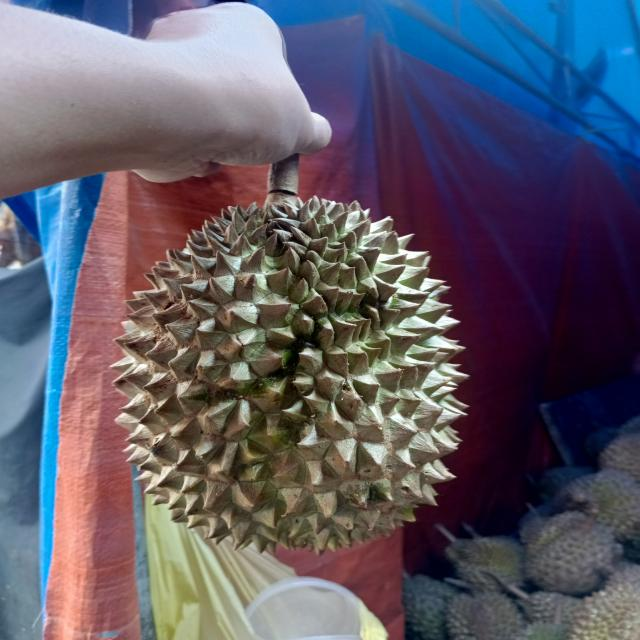mature: (109, 191, 468, 552)
